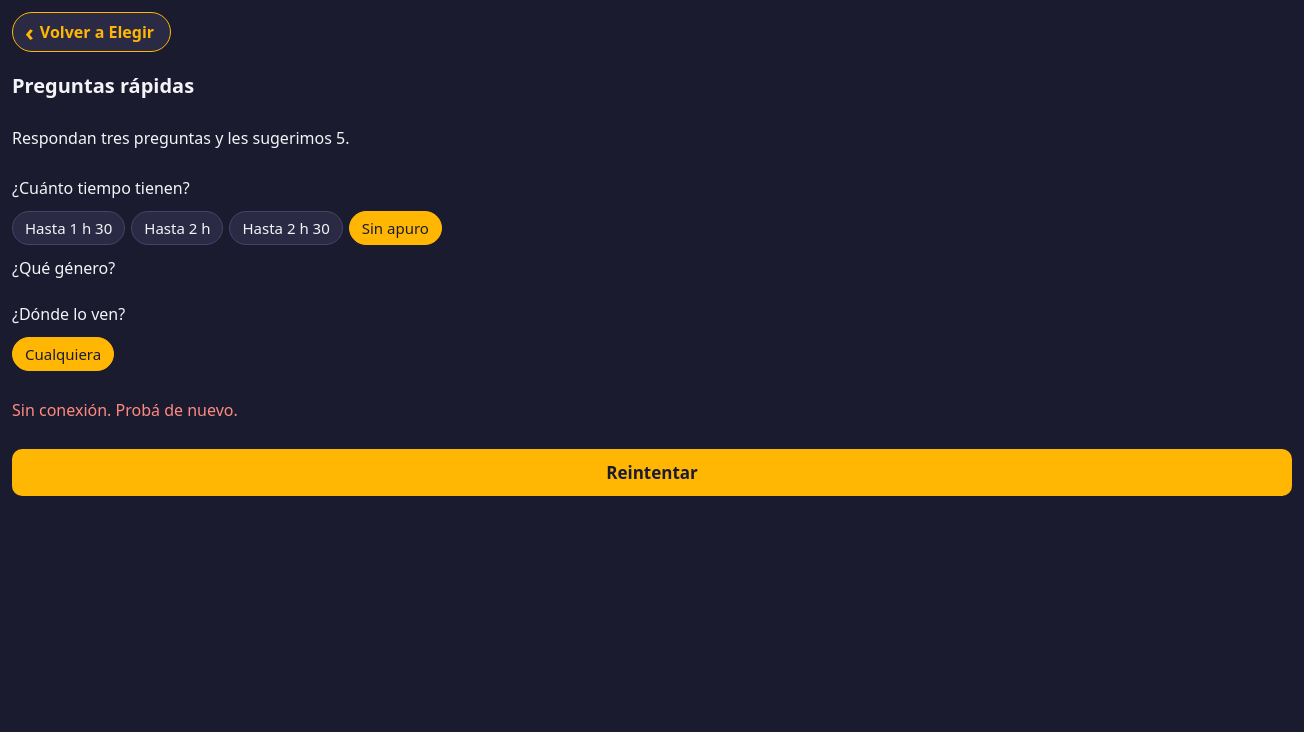
Test case: offline shows Reintentar
The image size is (1304, 732).
Expected: the text "Sin conexión. Probá de nuevo." is shown, 12,399 -> 238,421
Click the button "Reintentar".
click(652, 472)  # box 12,449 -> 1292,496
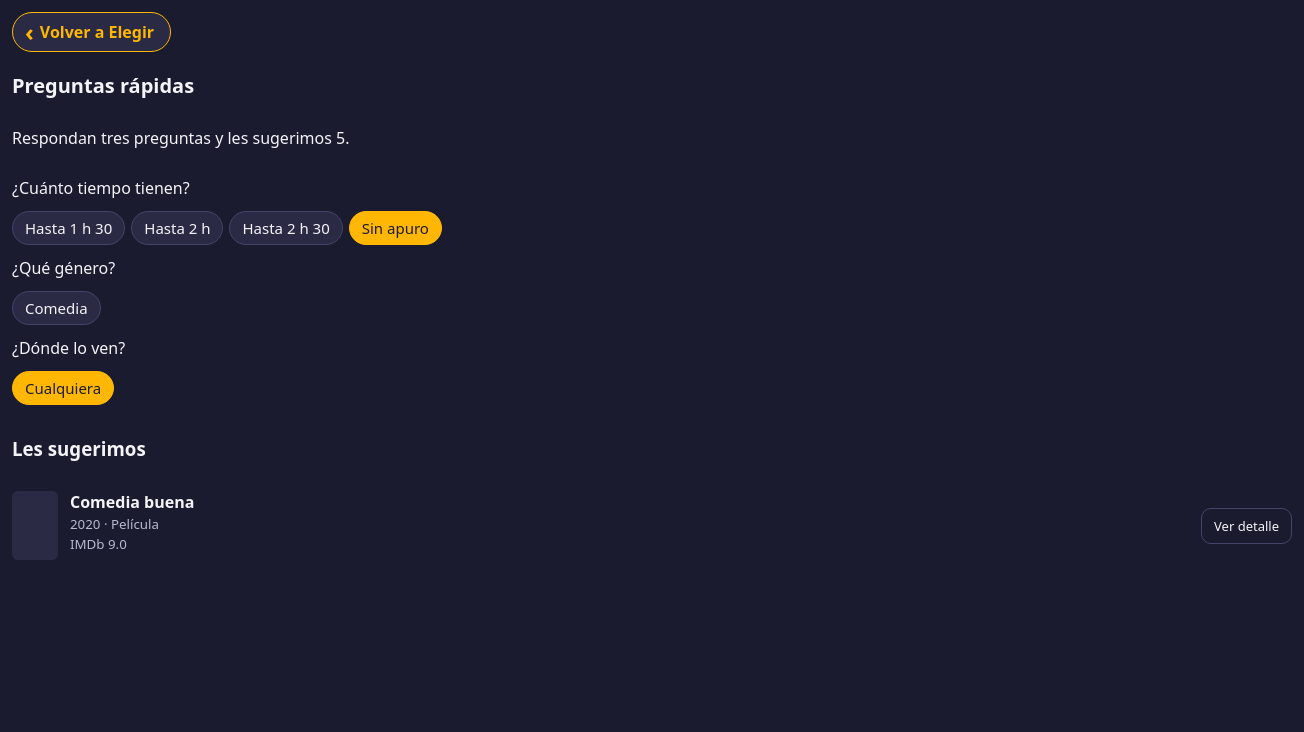
Now the text "Comedia buena" is shown, box 70,491 -> 194,513
